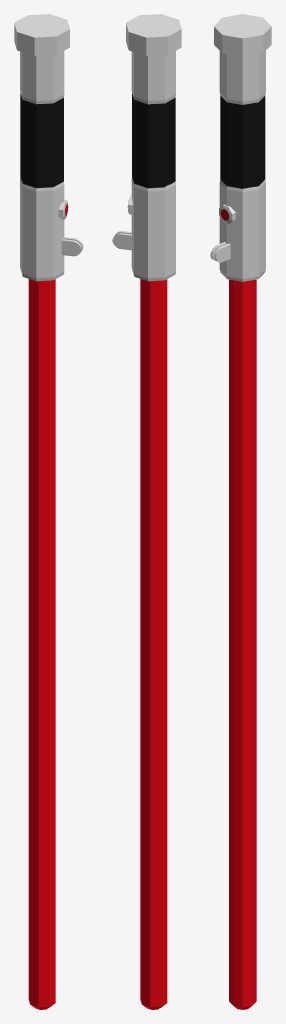
The model's file is lightsaber_red_on.fbx.
3 renders of one model, left to right at view 1: azimuth 30°, elevation 25°; view 2: azimuth 210°, elevation 25°; view 3: azimuth 270°, elevation 25°, orthographic.
Visible parts, largest first — view 1: lightsaber; view 2: lightsaber; view 3: lightsaber.
Boxes of the visible parts, bbox=[...] form: lightsaber: bbox=[14, 14, 83, 1009]; lightsaber: bbox=[112, 14, 181, 1009]; lightsaber: bbox=[210, 14, 271, 1009].
Bounding box in the file's own units: 0.04 × 0.7044 × 0.0401.
